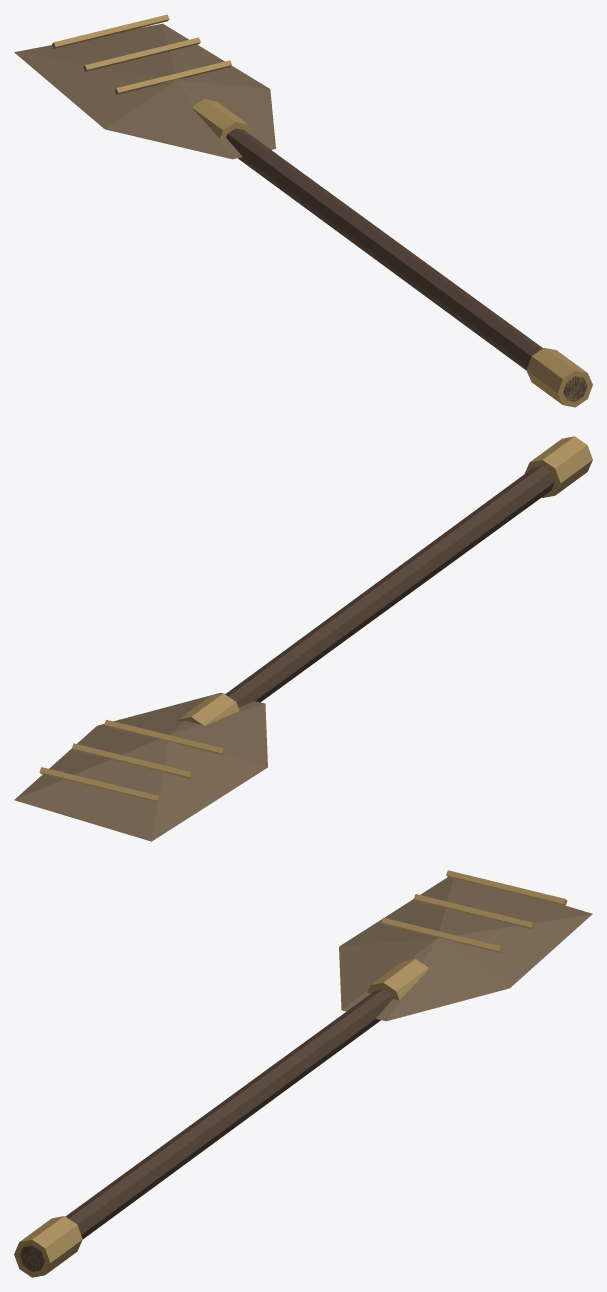
The model's file is oar.glb.
3 renders of one model, top to bottom at view 1: azimuth 30°, elevation 25°; view 2: azimuth 150°, elevation 25°; view 3: azimuth 330°, elevation 25°, orthographic. The views are drawn at different scales.
Visible parts, largest first — view 1: BladeMesh; view 2: BladeMesh; view 3: BladeMesh.
Part boxes in pixels (x1=…): BladeMesh: x1=14, y1=14, x2=592, y2=407; BladeMesh: x1=14, y1=436, x2=592, y2=841; BladeMesh: x1=14, y1=870, x2=592, y2=1277.
Bounding box in the file's own units: 0.61 × 0.152 × 3.1.
